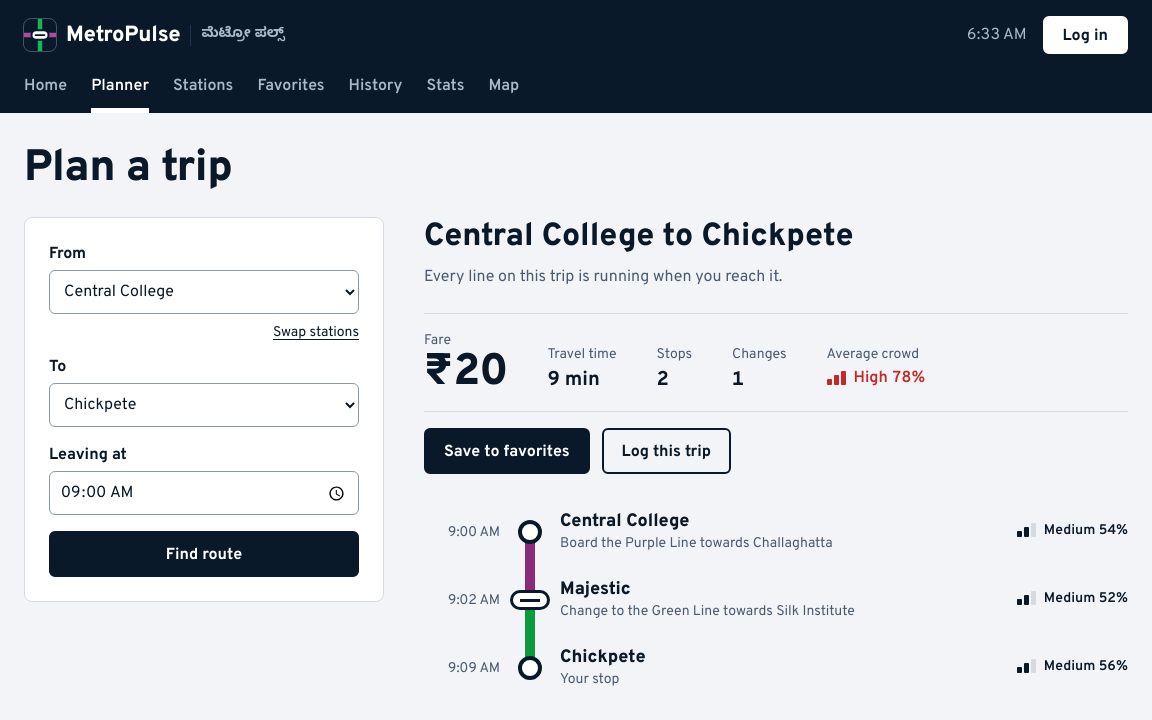
swapping the stations clears the old route
Expected: the heading "Central College to Chickpete" is shown, [424,217,854,257]
Click the button "Swap stations" at (316, 333), box [273,322,359,343]
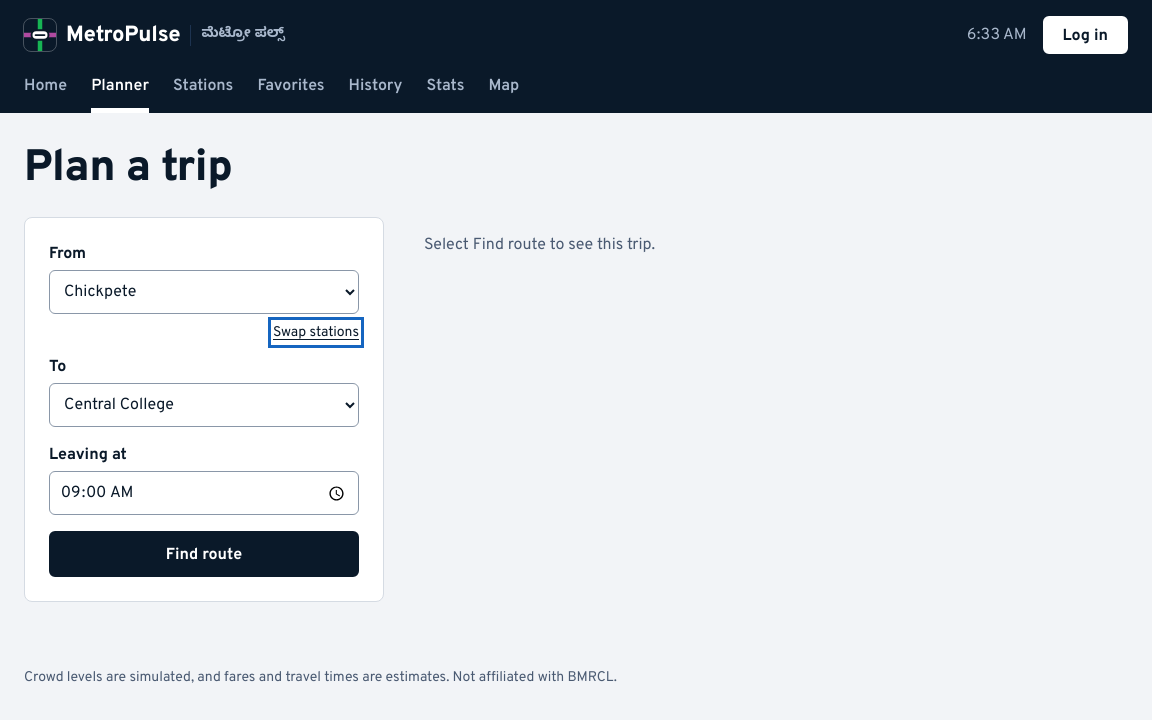
Now the dropdown labelled "From" shows "Chickpete", box [49,270,359,314]
Now the heading "Central College to Chickpete" is gone
